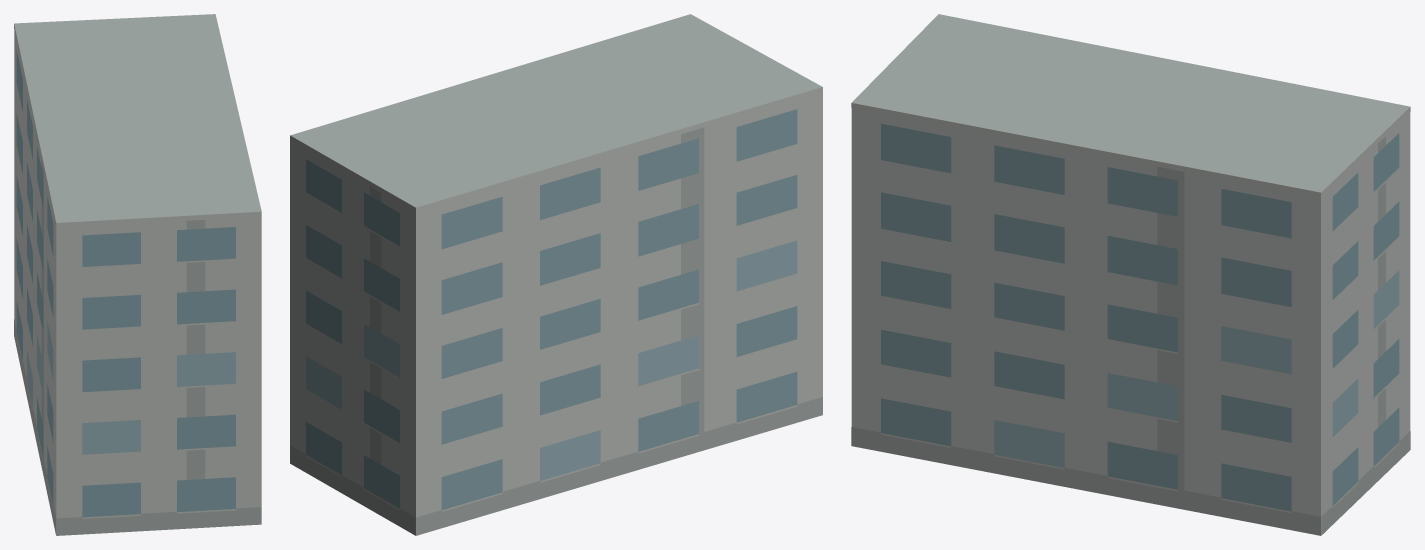
Rendered from survey-upis-32550671.glb.
The picture shows the model from 3 angles, left to right: view 1: azimuth 30°, elevation 25°; view 2: azimuth 150°, elevation 25°; view 3: azimuth 270°, elevation 25°; orthographic projection. The views are drawn at different scales.
Parts seen in each view (by area): view 1: survey-upis-32550671.tmp; view 2: survey-upis-32550671.tmp; view 3: survey-upis-32550671.tmp.
Part boxes in pixels (box(x1,y1,x2,y2)): survey-upis-32550671.tmp: box(14, 14, 261, 535); survey-upis-32550671.tmp: box(290, 14, 822, 535); survey-upis-32550671.tmp: box(851, 14, 1410, 535).
Size of the model in its own units: 17.03 by 15.25 by 22.52.
